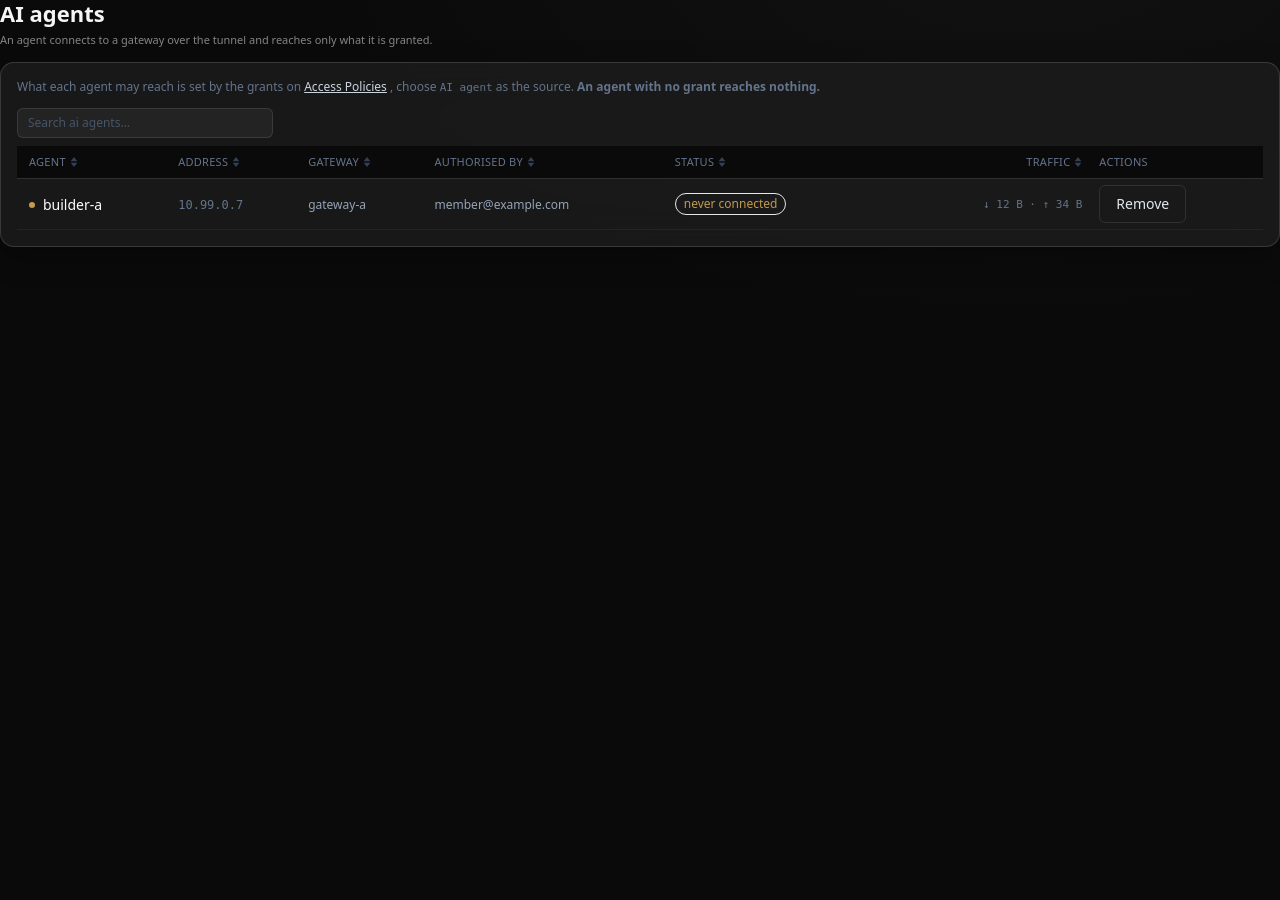
Scenario: released Agents route, F04 runtime facts › shows rotation status read-only to the accountable member-owner
What coordinates should you click on to do the following:
click the button with aria-label "Open builder-a"
I would click on:
 (66, 205)
Its box is [29,195,102,215].
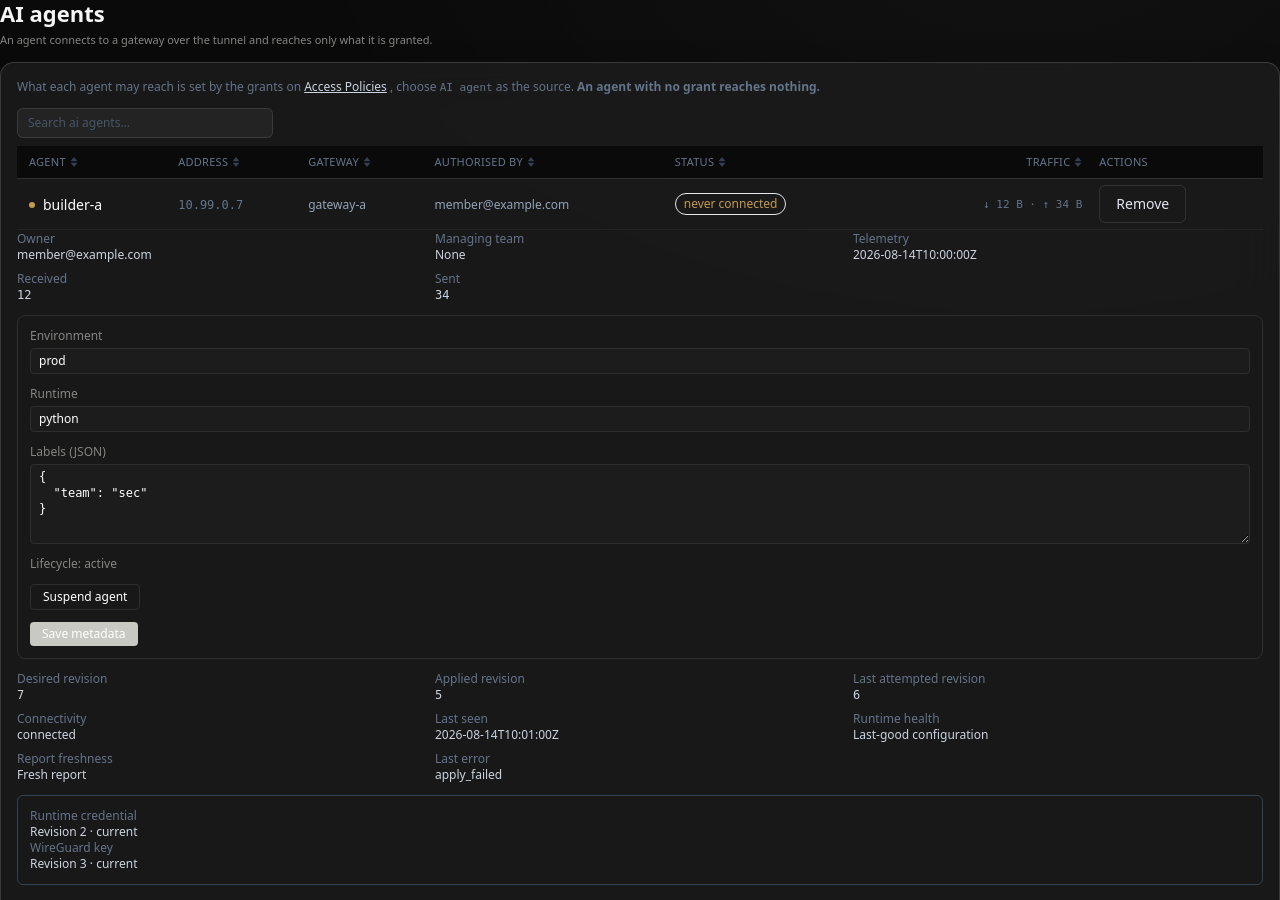
Expected: the element with test id "agent-profile" is shown
Expected: the element with test id "agent-credential-rotation" is shown, [17,795,1263,885]
Expected: the text "Revision 2 · current" is shown, [30,824,138,840]
